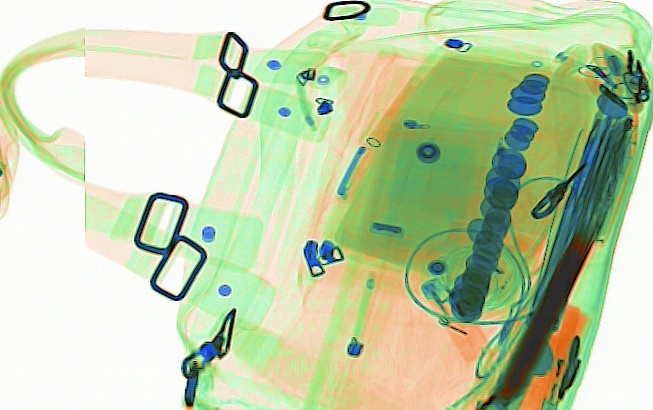lighter: (419, 277, 491, 366), (538, 303, 588, 408)
